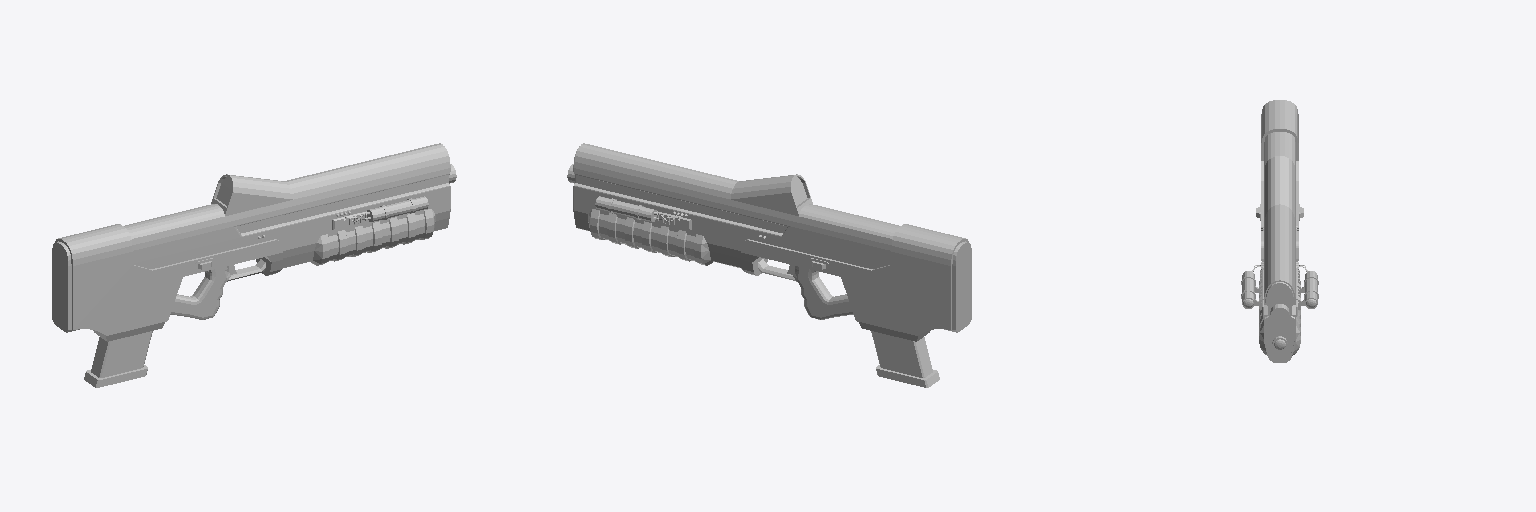
Rendered from TREK-13 Automatic Shotgun.obj.
3 renders of one model, left to right at view 1: azimuth 30°, elevation 25°; view 2: azimuth 150°, elevation 25°; view 3: azimuth 270°, elevation 25°, orthographic.
Visible parts, largest first — view 1: 1P_Mesh; view 2: 1P_Mesh; view 3: 1P_Mesh.
Boxes of the visible parts, <box> form: 1P_Mesh: <box>52,143,456,387</box>; 1P_Mesh: <box>567,143,971,387</box>; 1P_Mesh: <box>1241,100,1318,362</box>.
Bounding box in the file's own units: 17.88 × 7.6 × 3.08.